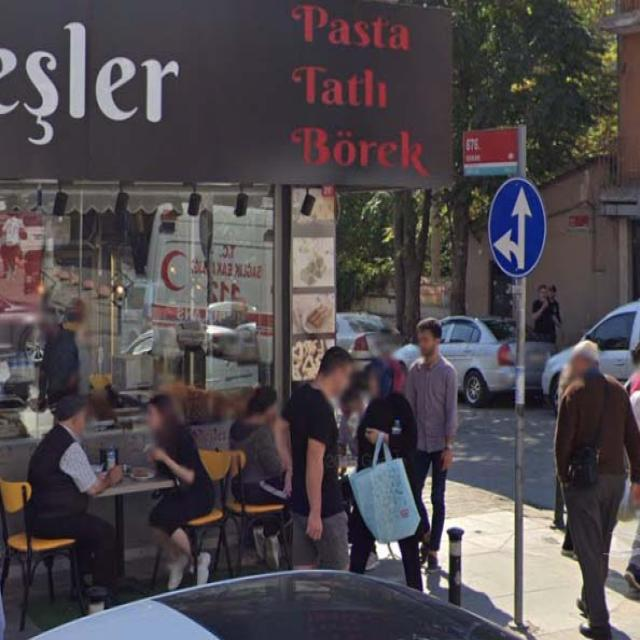ilerisol: (487, 179, 546, 277)
